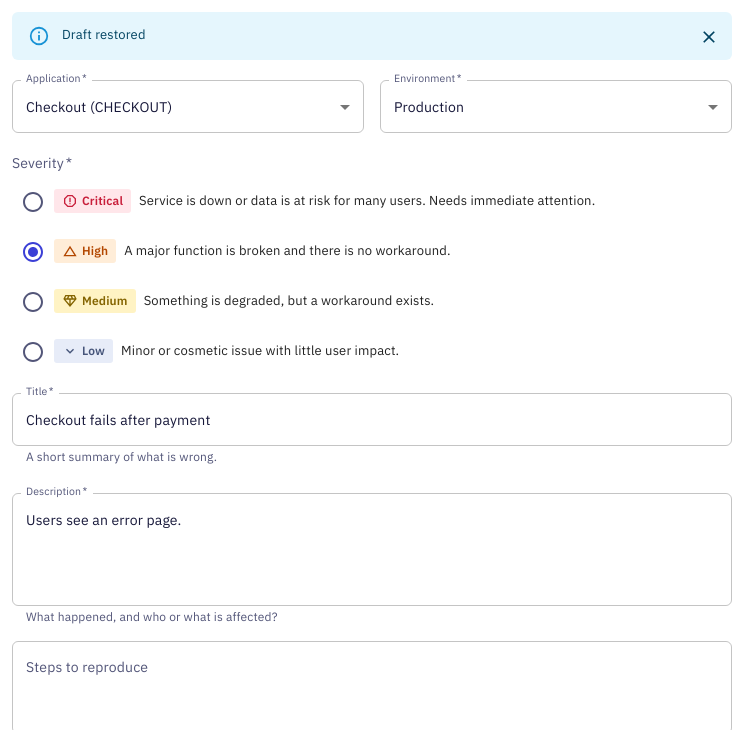
Scenario: ReportIncidentForm › draft autosave › can dismiss the restored notice
The width and height of the screenshot is (749, 730).
Expected: the text "Draft restored" is shown, [62,26,146,43]
Click the button named "close". click: (709, 37)
box: [694,22,724,52]
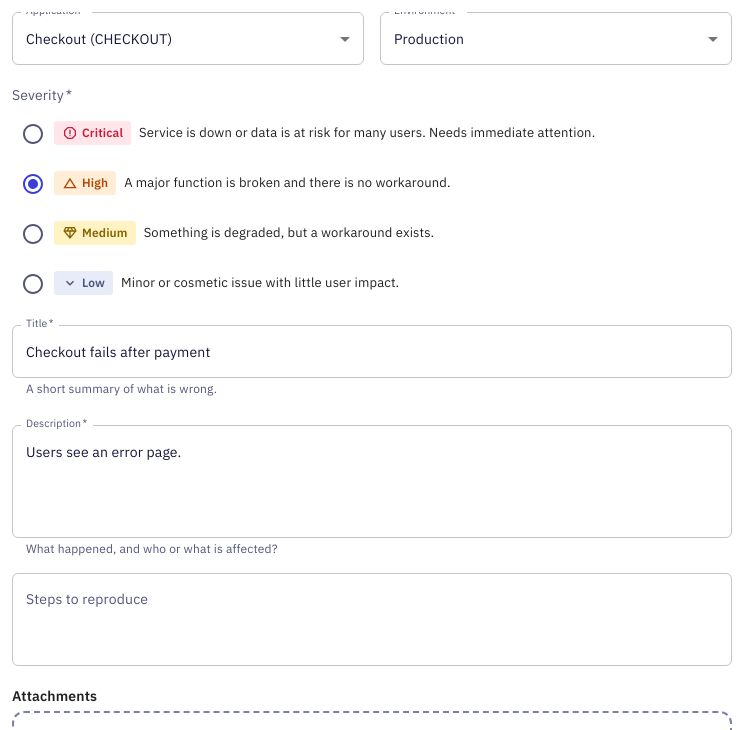
Expected: the text "Draft restored" is gone
